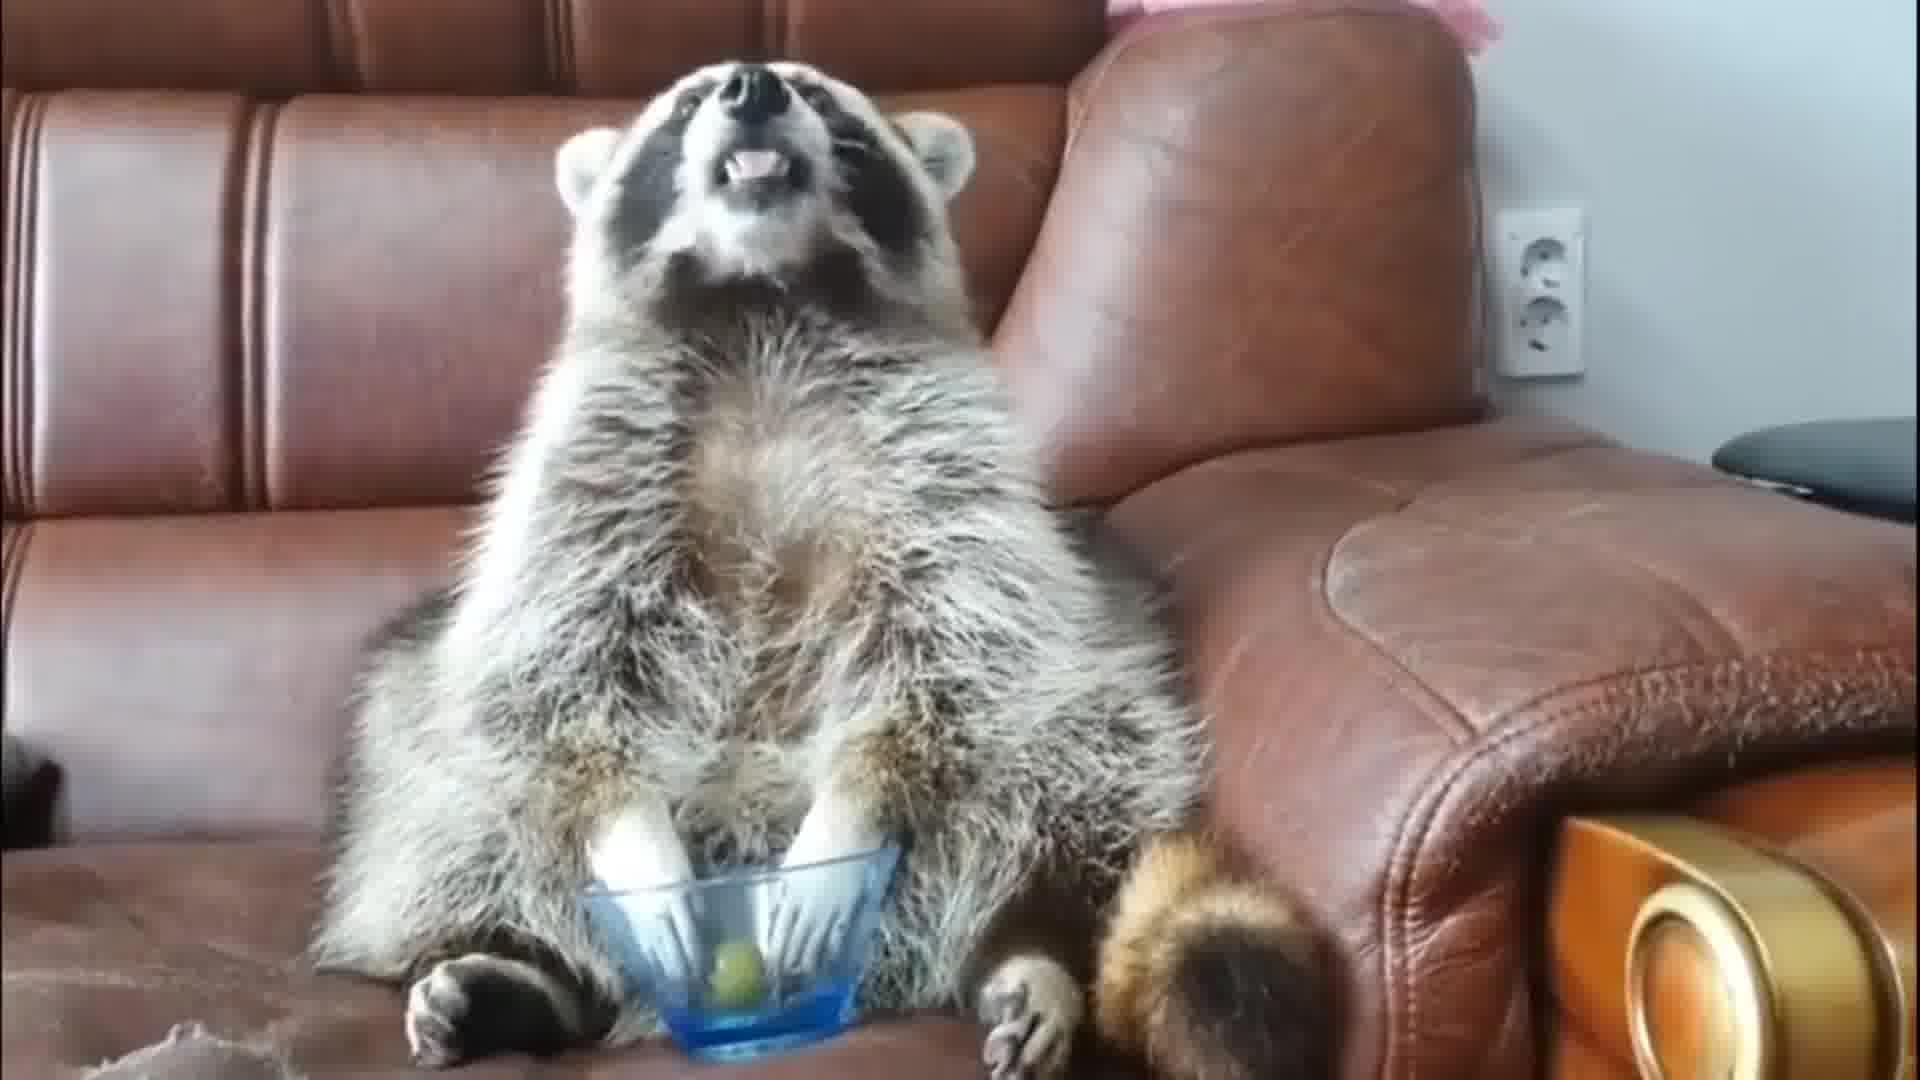raccoon: (298, 57, 1347, 1080)
